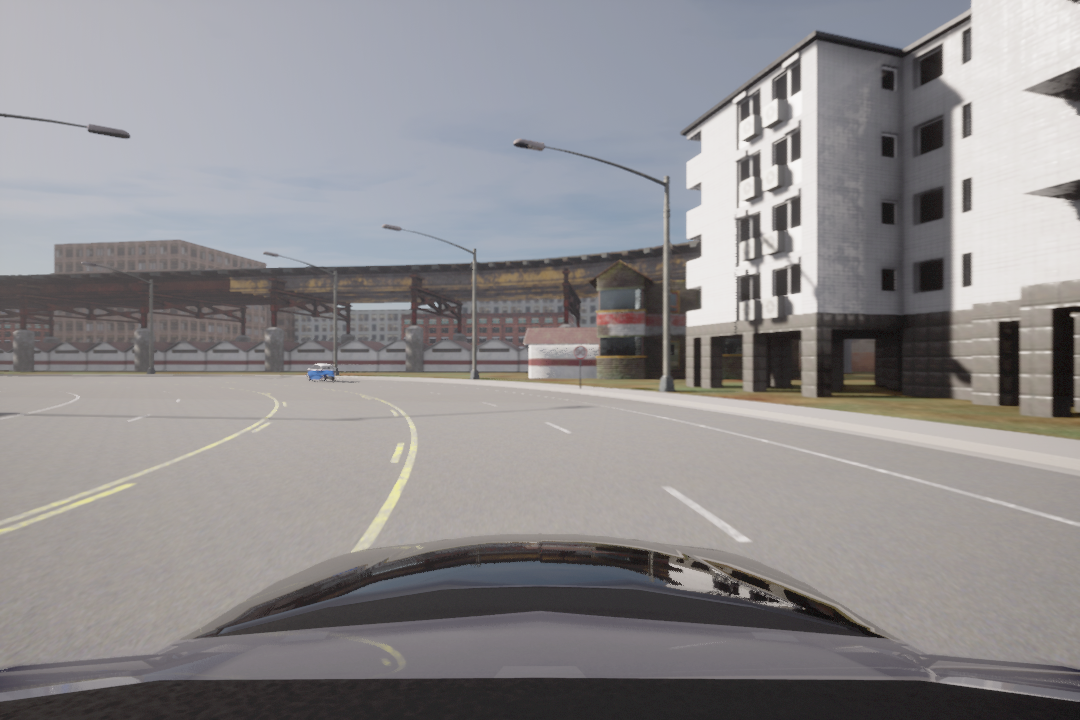TrafficSign_speed: (573, 344, 587, 361)
